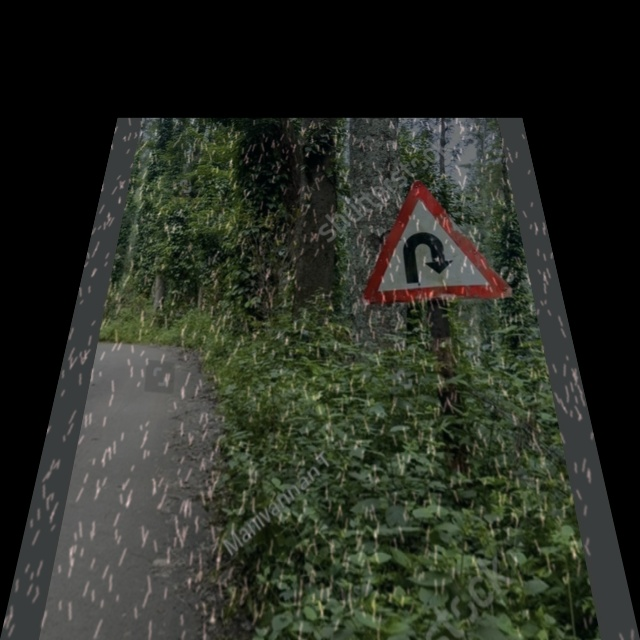Right_Hair_Pin_Bend: (361, 180, 511, 300)
